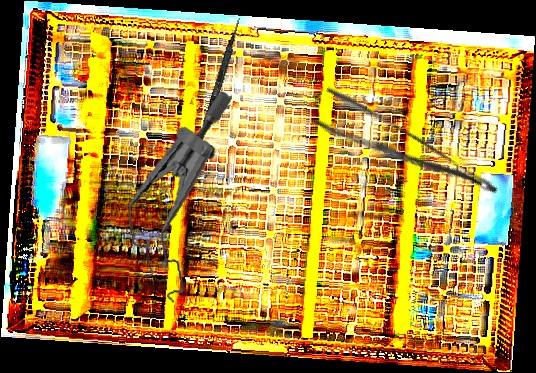Dressing Forceps: (307, 82, 502, 224)
Spatula Surgical: (192, 16, 242, 163)
Speculum: (113, 90, 253, 308)
